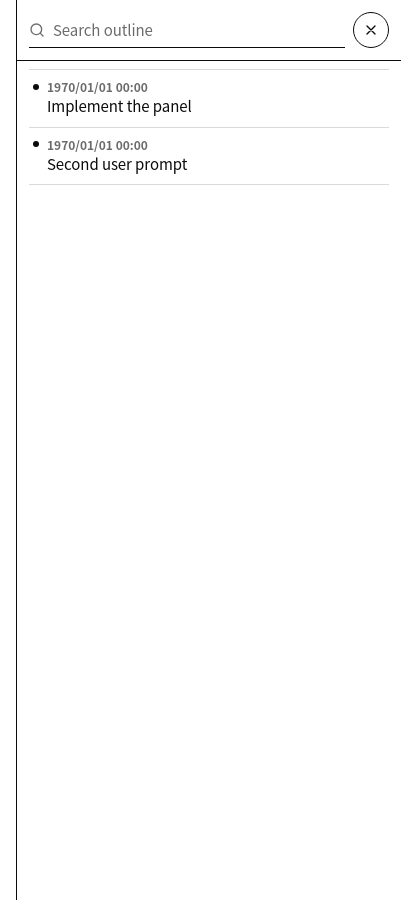
Test: ConversationOutlinePanel › supports wildcard patterns in outline search
In the search field named "Search outline items": (187, 30) [29, 12, 345, 48], type "Implement*"
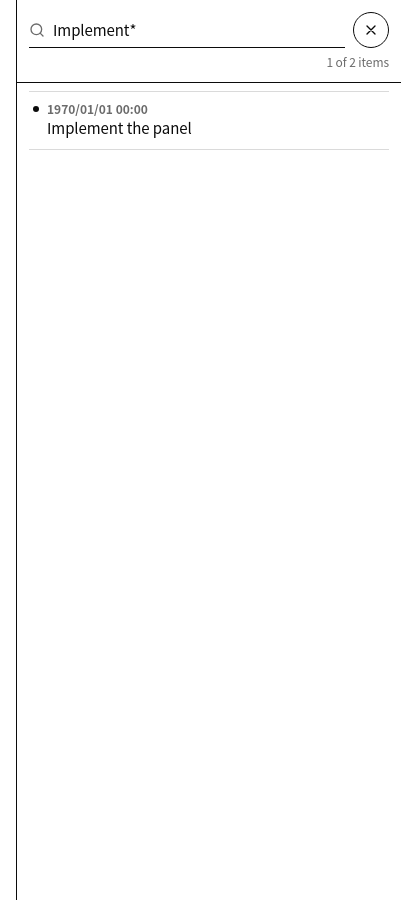
Check: the text "Implement the panel" is shown, box [47, 117, 192, 138]
Check: the button "Second user prompt" is gone
Replace the text in the search field named "Search outline items" with "Second user p?????": (187, 30) [29, 12, 345, 48]
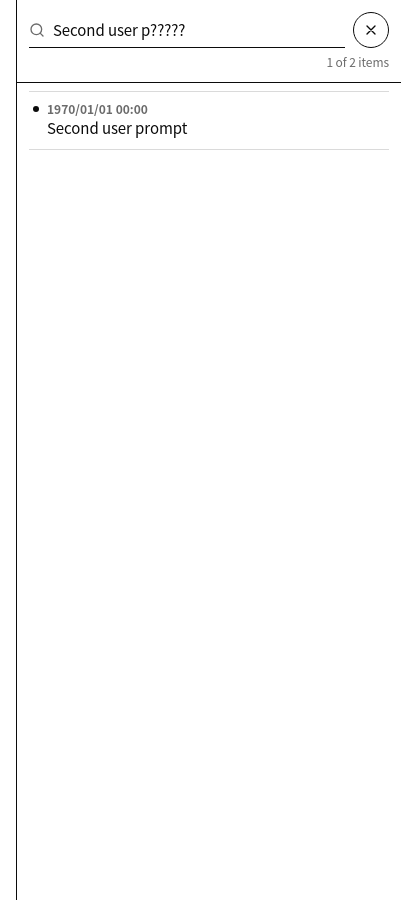
Check: the button "Implement the panel" is gone
Check: the text "Second user prompt" is shown, box [47, 117, 187, 138]
